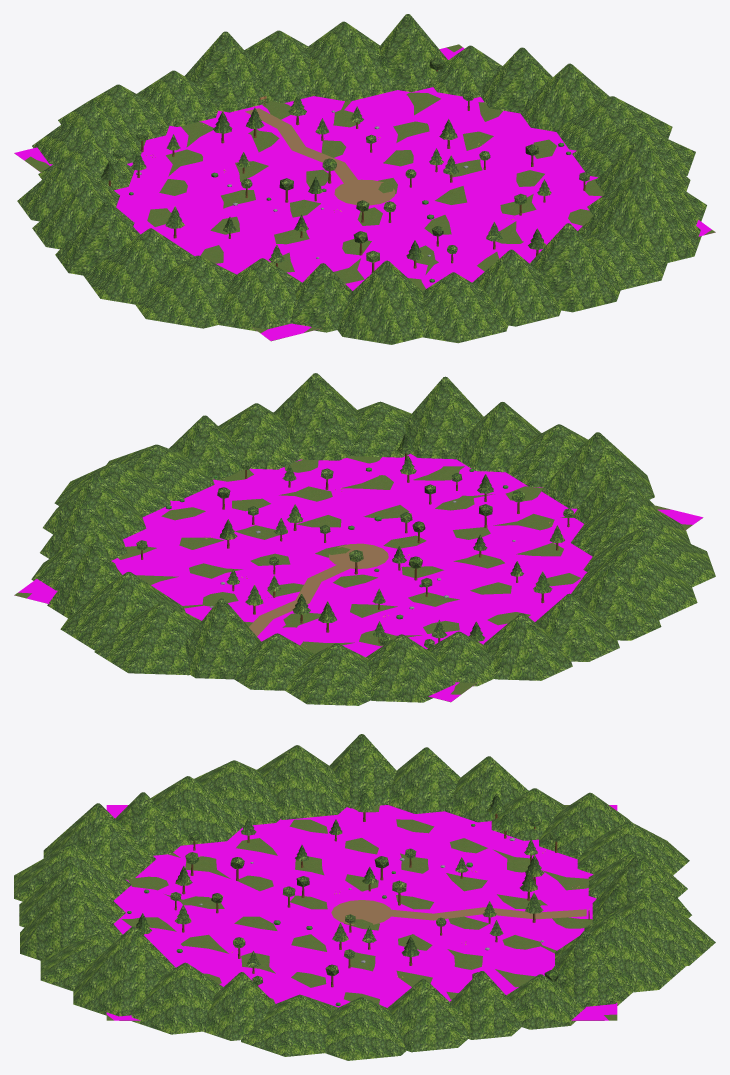
Rendered from Bosque_Coronda.glb.
3 renders of one model, top to bottom at view 1: azimuth 30°, elevation 25°; view 2: azimuth 150°, elevation 25°; view 3: azimuth 270°, elevation 25°, orthographic.
Parts seen in each view (by area): view 1: col_suelo, suelo, colina_25, colina_20, colina_06, colina_23, colina_17, colina_16, colina_18, colina_21, colina_08, colina_22 (+20 smaller); view 2: col_suelo, suelo, colina_25, colina_07, colina_11, colina_06, colina_23, colina_10, colina_08, colina_13, colina_16, colina_20 (+20 smaller); view 3: col_suelo, suelo, colina_25, colina_16, colina_23, colina_06, colina_26, colina_01, colina_28, colina_02, colina_18, colina_20 (+20 smaller).
Part boxes in pixels (box(x1,y1,x2,y2)): col_suelo: box(14, 47, 711, 340); suelo: box(14, 44, 715, 341); colina_25: box(578, 174, 701, 262); colina_20: box(337, 260, 426, 344); colina_06: box(308, 21, 397, 101); colina_23: box(529, 223, 620, 312); colina_17: box(135, 255, 236, 328); colina_16: box(83, 228, 194, 304); colina_18: box(217, 258, 301, 331); colina_21: box(423, 272, 508, 343); colina_08: box(184, 31, 268, 112); colina_22: box(472, 249, 560, 326); col_suelo: box(14, 453, 702, 701); suelo: box(14, 412, 702, 702); colina_25: box(273, 373, 360, 460); colina_07: box(94, 602, 201, 675); colina_11: box(366, 634, 455, 702); colina_06: box(60, 572, 185, 650); colina_23: box(404, 376, 483, 459); colina_10: box(285, 643, 371, 705); colina_08: box(185, 598, 261, 679); colina_13: box(483, 613, 572, 680); colina_16: box(571, 544, 697, 620); colina_20: box(541, 432, 654, 508); col_suelo: box(106, 805, 617, 1020); suelo: box(106, 805, 617, 1020); colina_25: box(73, 926, 175, 1016); colina_16: box(257, 745, 346, 819); colina_23: box(20, 879, 122, 960); colina_06: box(555, 913, 685, 992); colina_26: box(131, 962, 223, 1034); colina_01: box(325, 997, 406, 1060); colina_28: box(241, 994, 338, 1056); colina_02: box(387, 978, 468, 1052); colina_18: box(150, 776, 243, 845); colina_20: box(43, 803, 155, 879).
Bounding box in the file's own units: 136 × 13.95 × 137.
Materials: 15 (5 with a texture image).
